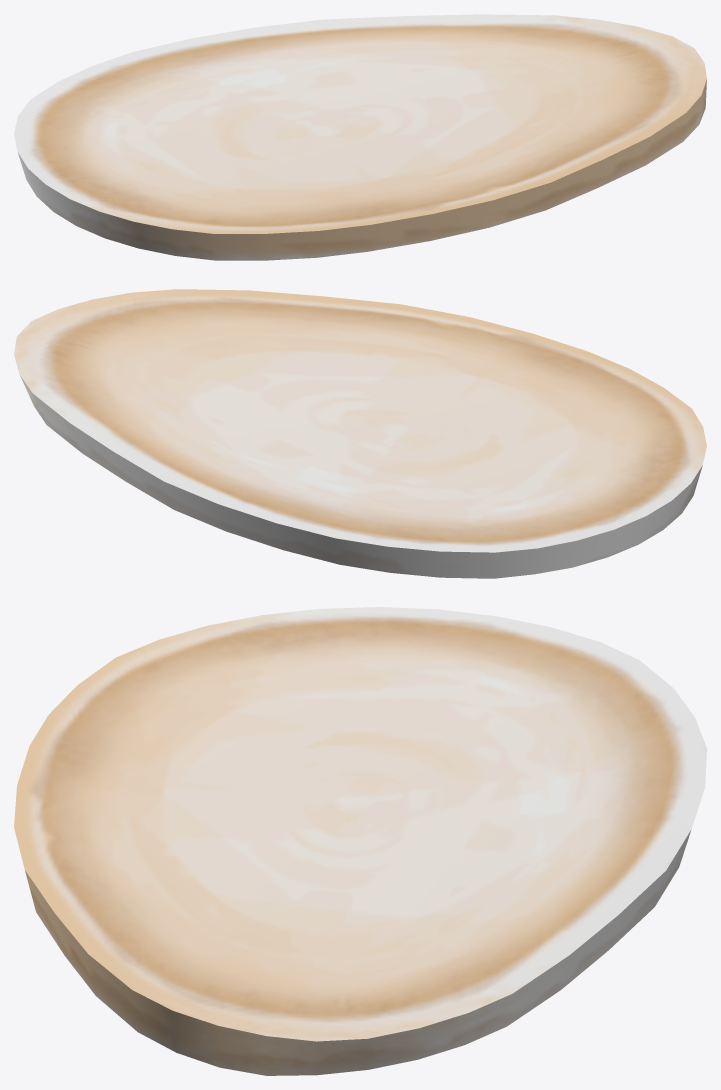
Rendered from SM_Potion_Props_Plate_02.fbx.
3 views of the same model, one above another, from view 1: azimuth 30°, elevation 25°; view 2: azimuth 150°, elevation 25°; view 3: azimuth 270°, elevation 25° (orthographic). The views are drawn at different scales.
Parts seen in each view (by area): view 1: SM_Potion_Props_Plate_02_LOD0; view 2: SM_Potion_Props_Plate_02_LOD0; view 3: SM_Potion_Props_Plate_02_LOD0.
Boxes of the visible parts, box(x1,y1,x2,y2) form: SM_Potion_Props_Plate_02_LOD0: box(14, 14, 706, 260); SM_Potion_Props_Plate_02_LOD0: box(14, 289, 706, 578); SM_Potion_Props_Plate_02_LOD0: box(14, 607, 706, 1075).
Size of what is drawn, in the model's own units: 40.28 by 1.88 by 27.15.
